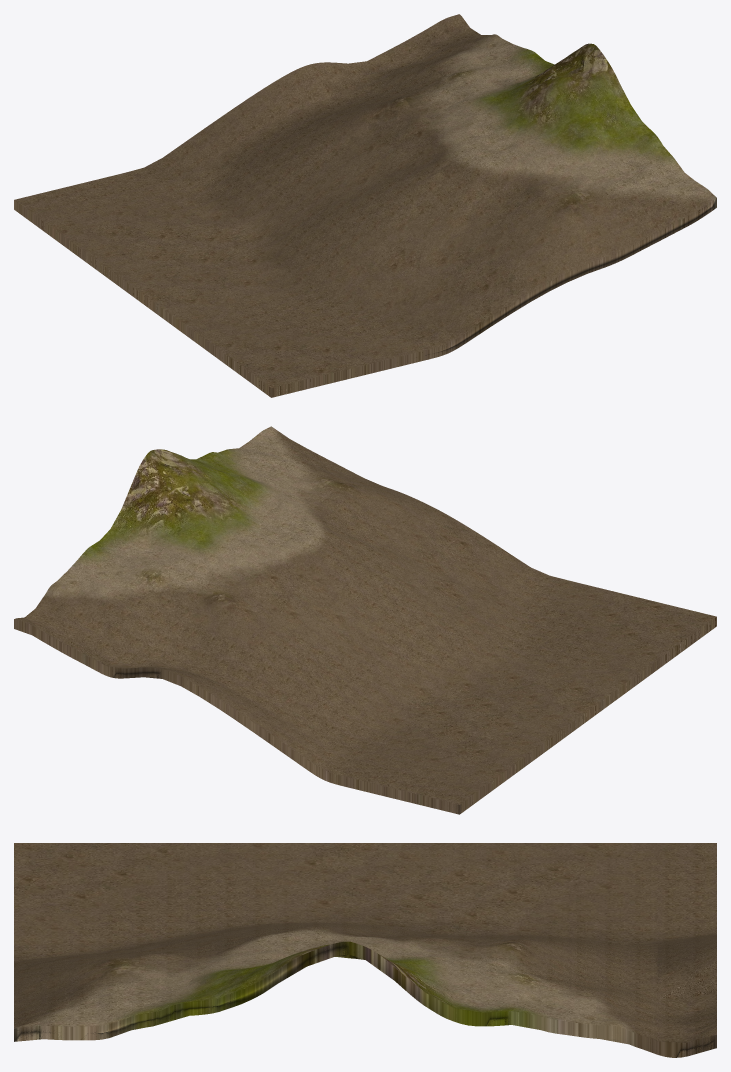
File: chunk_0_3.glb
3 views of the same model, one above another, from view 1: azimuth 30°, elevation 25°; view 2: azimuth 150°, elevation 25°; view 3: azimuth 270°, elevation 25° (orthographic). The views are drawn at different scales.
Parts seen in each view (by area): view 1: Terrain_L2, Terrain_L0, Terrain_L1; view 2: Terrain_L2, Terrain_L0, Terrain_L1; view 3: Terrain_L2, Terrain_L0, Terrain_L1.
Part boxes in pixels (x1=…): Terrain_L2: x1=14, y1=21, x2=716, y2=396; Terrain_L0: x1=14, y1=14, x2=716, y2=397; Terrain_L1: x1=14, y1=16, x2=716, y2=397; Terrain_L2: x1=14, y1=426, x2=716, y2=805; Terrain_L0: x1=14, y1=429, x2=716, y2=814; Terrain_L1: x1=14, y1=426, x2=716, y2=814; Terrain_L2: x1=14, y1=843, x2=716, y2=1054; Terrain_L0: x1=14, y1=915, x2=716, y2=1057; Terrain_L1: x1=14, y1=909, x2=716, y2=1057.
Bounding box in the file's own units: 96 × 31.92 × 96.
Materials: 1 (1 with a texture image).
